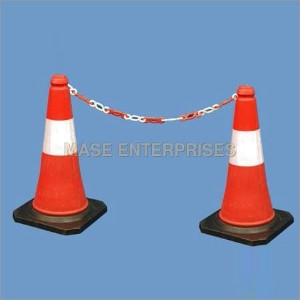traffic cone: (199, 85, 294, 247), (13, 75, 108, 235)
